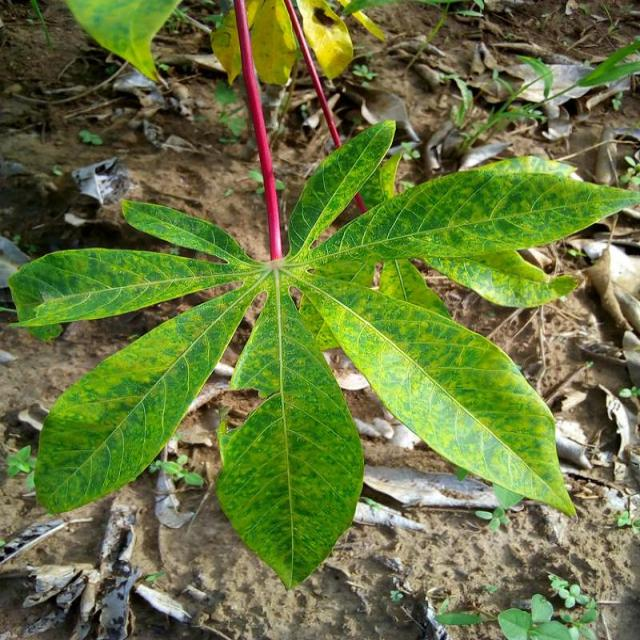cassava leaf: (6, 3, 637, 590), (288, 268, 578, 519), (33, 268, 269, 515), (214, 270, 365, 590)
